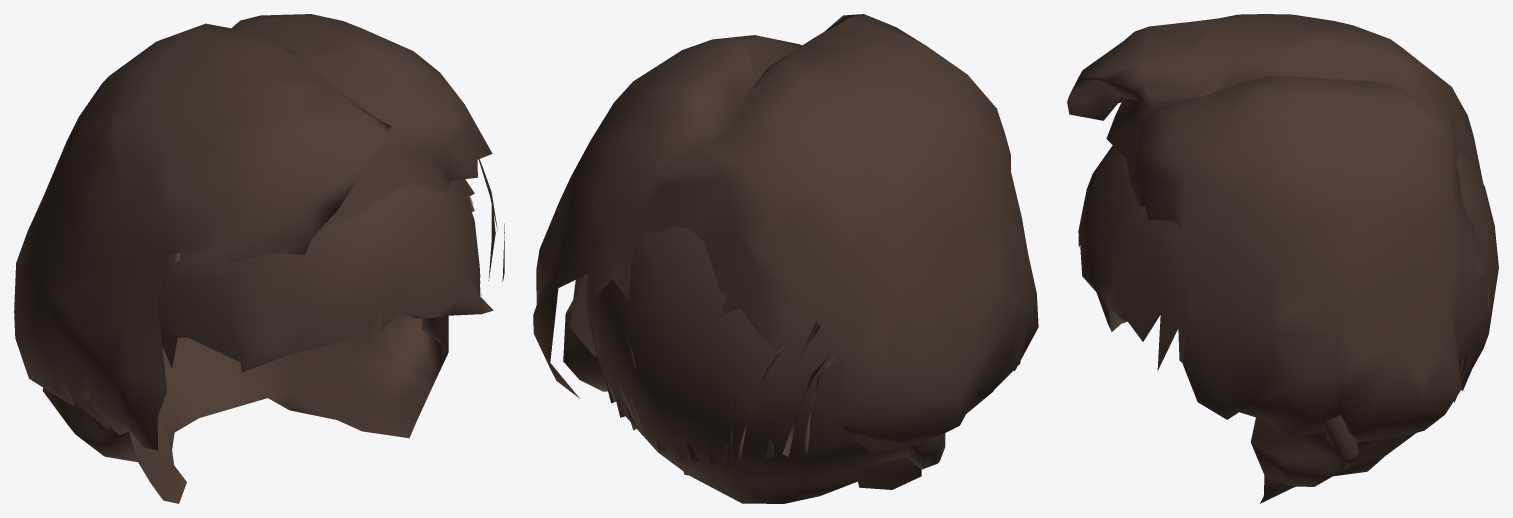
File: bob.glb
3 renders of one model, left to right at view 1: azimuth 30°, elevation 25°; view 2: azimuth 150°, elevation 25°; view 3: azimuth 270°, elevation 25°, orthographic. The views are drawn at different scales.
Parts seen in each view (by area): view 1: Hair, HairScalp; view 2: Hair, HairScalp, HairPulledRootStrands; view 3: Hair, HairScalp.
Boxes of the visible parts, bbox=[...] form: Hair: bbox=[14, 14, 504, 450]; HairScalp: bbox=[42, 179, 493, 503]; Hair: bbox=[533, 14, 1038, 452]; HairScalp: bbox=[563, 226, 945, 503]; HairPulledRootStrands: bbox=[589, 319, 837, 464]; Hair: bbox=[1067, 14, 1482, 442]; HairScalp: bbox=[1078, 145, 1498, 503].
Size of the model in its own units: 0.5276 by 0.48 by 0.4543.
